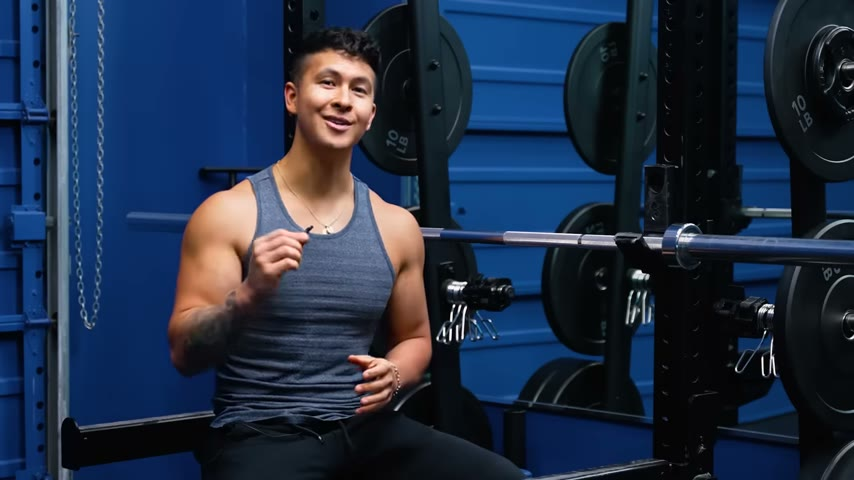barbell_plate_side: (710, 197, 797, 466), (757, 0, 810, 184)
